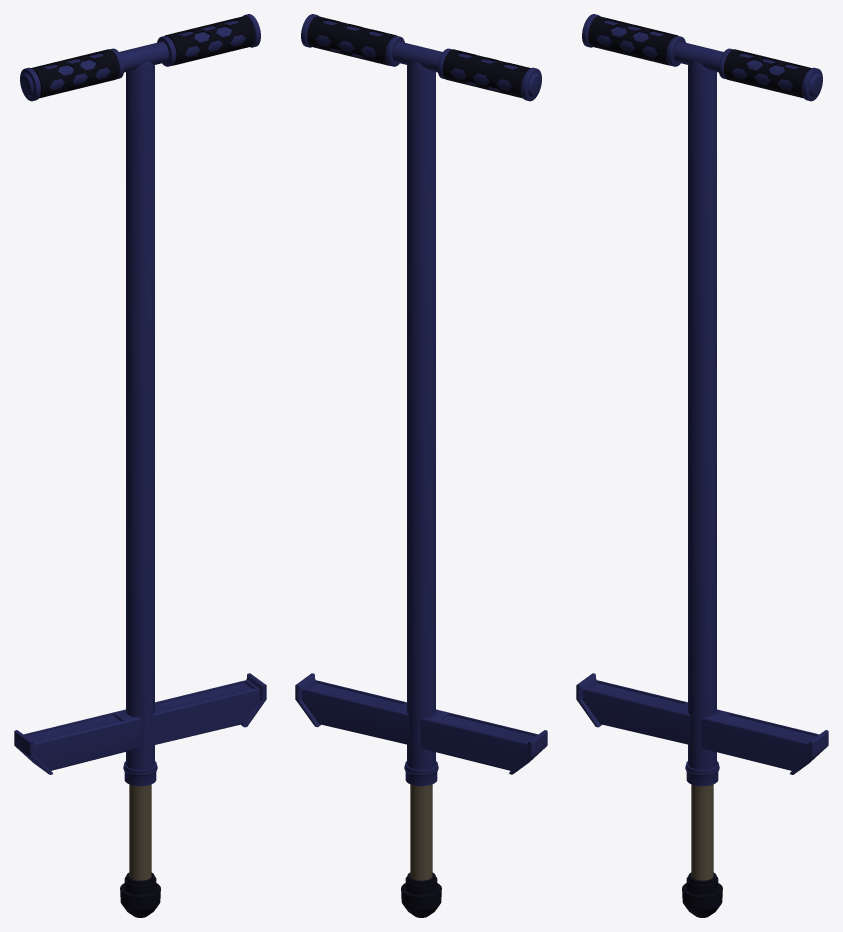
The model's file is Pogostick.fbx.
3 views of the same model, side by side, from view 1: azimuth 30°, elevation 25°; view 2: azimuth 150°, elevation 25°; view 3: azimuth 330°, elevation 25° (orthographic).
Visible parts, largest first — view 1: Cylinder, Cylinder.002; view 2: Cylinder, Cylinder.002; view 3: Cylinder, Cylinder.002.
Boxes of the visible parts, bbox=[...] form: Cylinder: bbox=[14, 14, 266, 786]; Cylinder.002: bbox=[120, 784, 160, 917]; Cylinder: bbox=[295, 14, 547, 786]; Cylinder.002: bbox=[401, 784, 441, 917]; Cylinder: bbox=[576, 14, 828, 786]; Cylinder.002: bbox=[682, 784, 722, 917].
Size of the model in its own units: 96.07 by 338 by 14.38.
